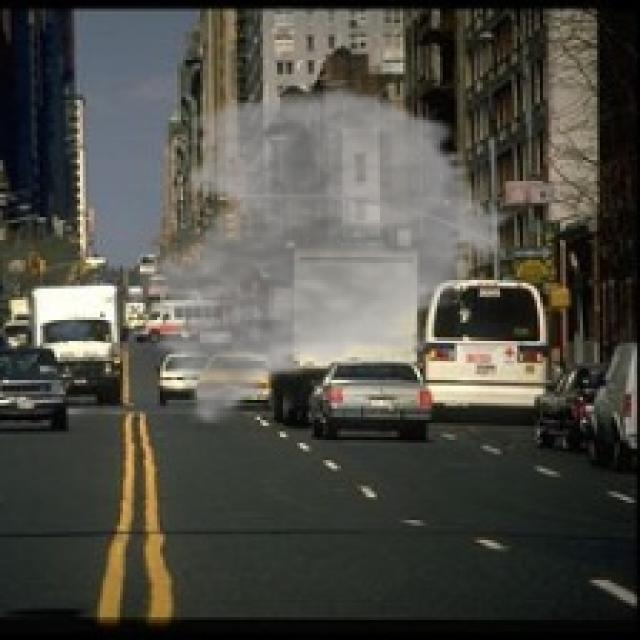smoke: (129, 83, 520, 428)
